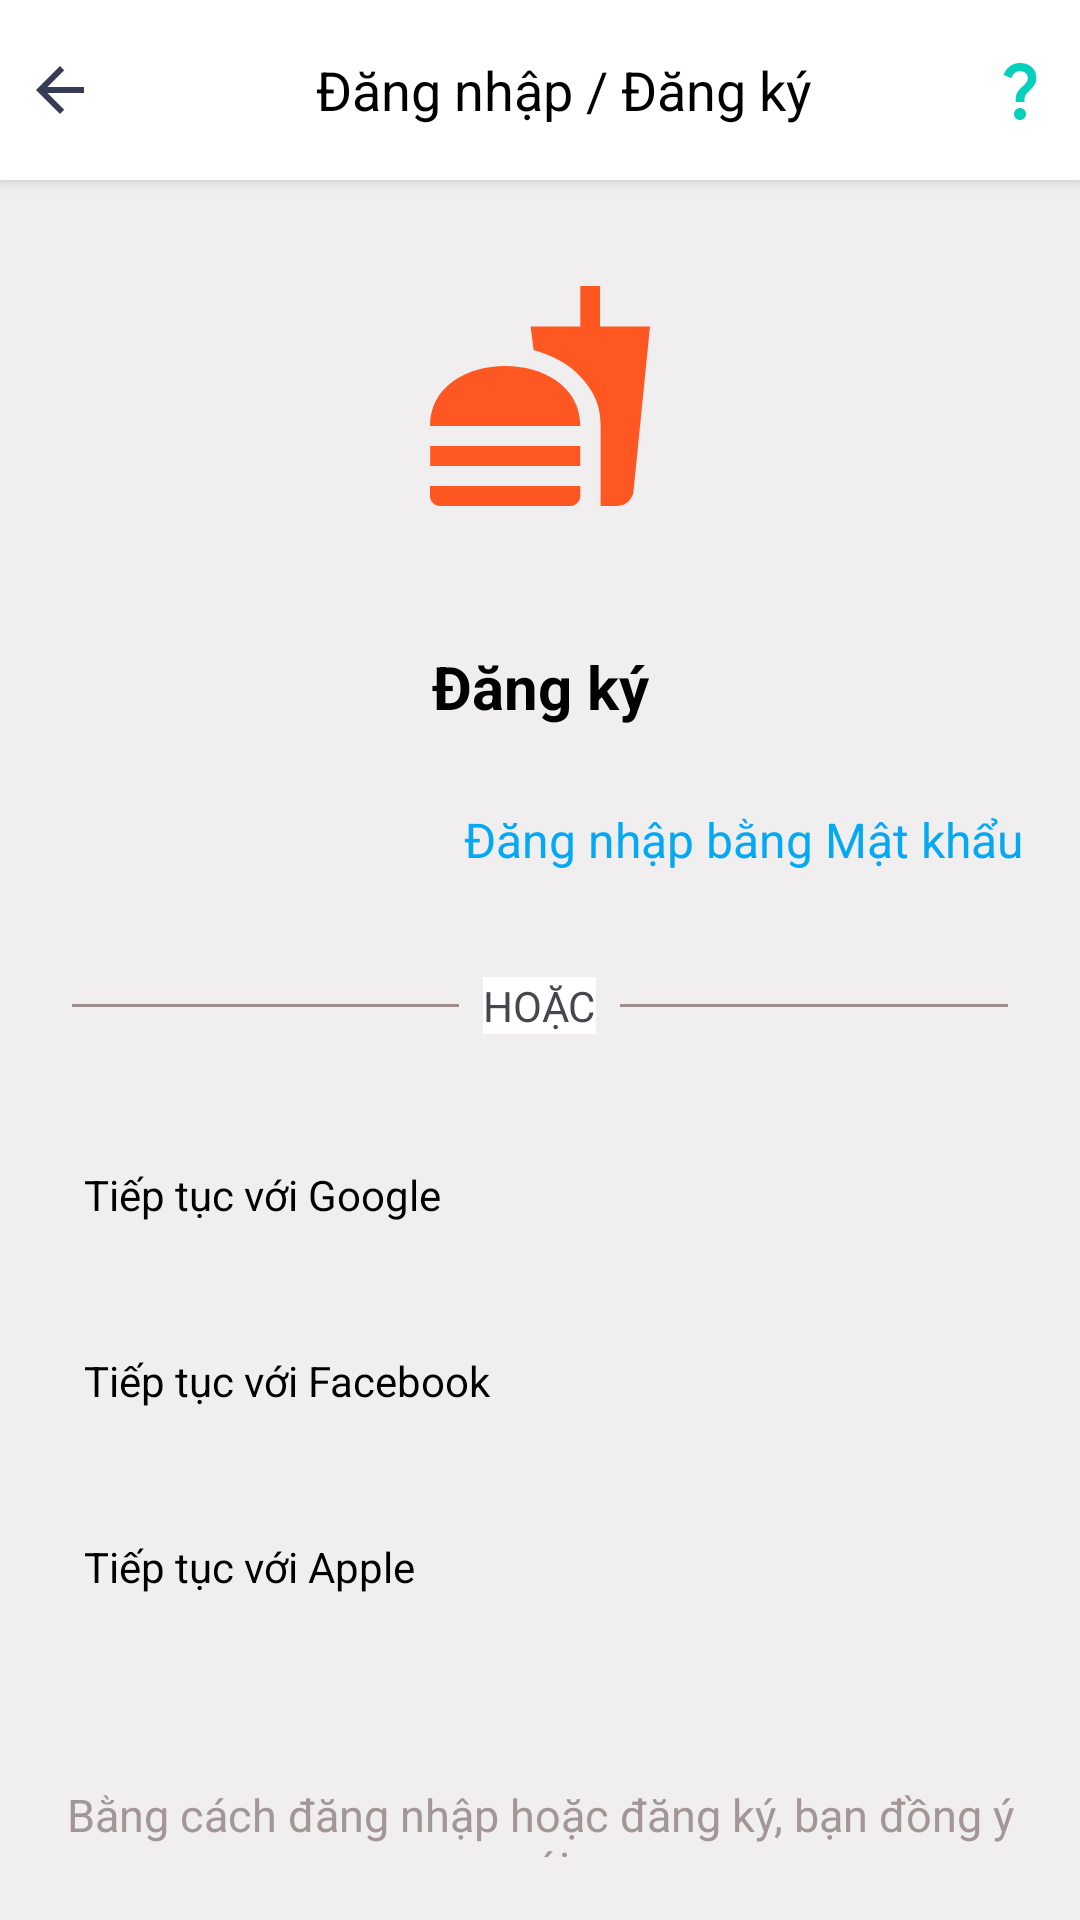

Where icons sit on this 1080*1920 app screen, as (x1, y1, x2, y2):
arrow back: (36, 66, 84, 114)
fastfood: (430, 286, 650, 506)
question mark: (1003, 63, 1037, 120)
